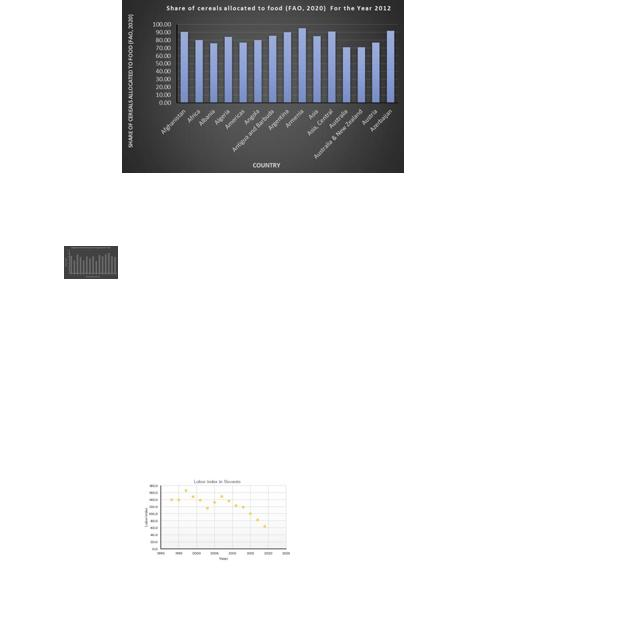Graph: (122, 0, 404, 173), (143, 478, 291, 562), (64, 246, 118, 279)
